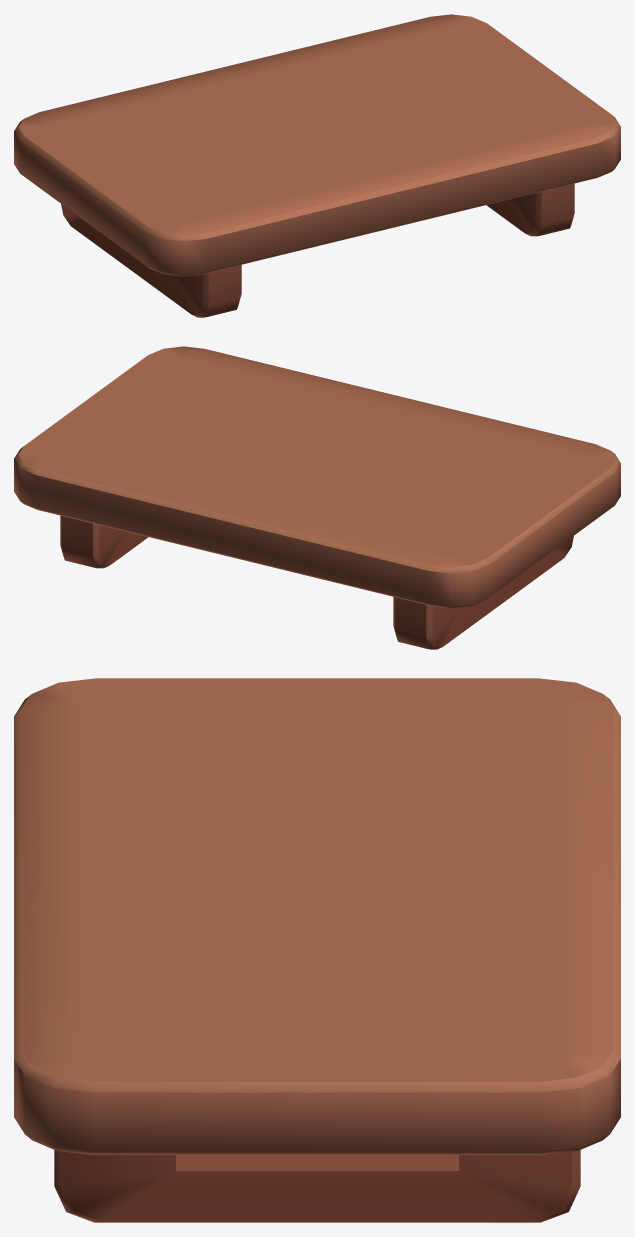
File: soffbord.glb
3 views of the same model, one above another, from view 1: azimuth 30°, elevation 25°; view 2: azimuth 150°, elevation 25°; view 3: azimuth 270°, elevation 25° (orthographic). The views are drawn at different scales.
Parts seen in each view (by area): view 1: table_low; view 2: table_low; view 3: table_low.
Boxes of the visible parts, x1,y1,x2,y2 form: table_low: (14, 14, 620, 317); table_low: (14, 346, 620, 649); table_low: (14, 678, 620, 1222).
Size of the model in its own units: 2.4 by 0.4998 by 1.5.
1 material, 1 textured.
